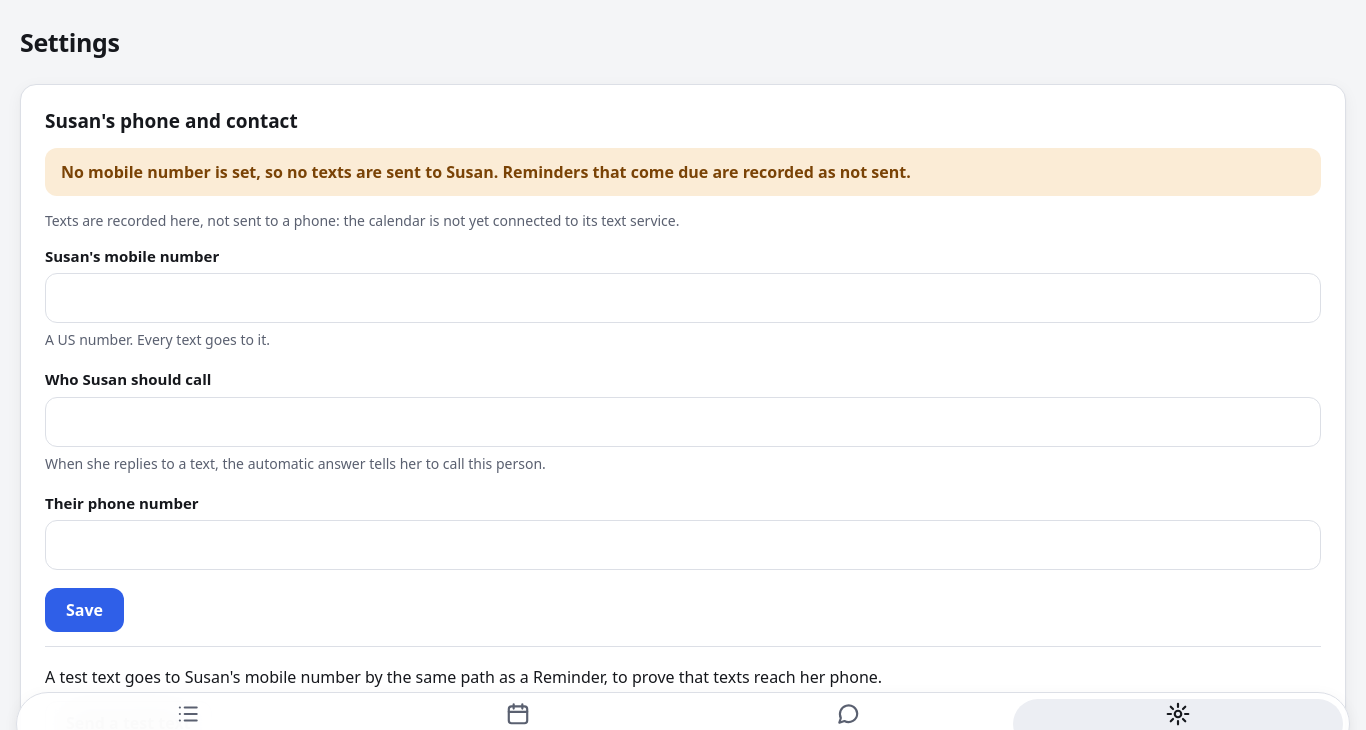
Test: the Susan's phone and contact section of Settings › says what is wrong with a number that is not one, and keeps nothing
In the field labelled "Susan's mobile number": (683, 298) [45,273,1321,323], type "555-0123"
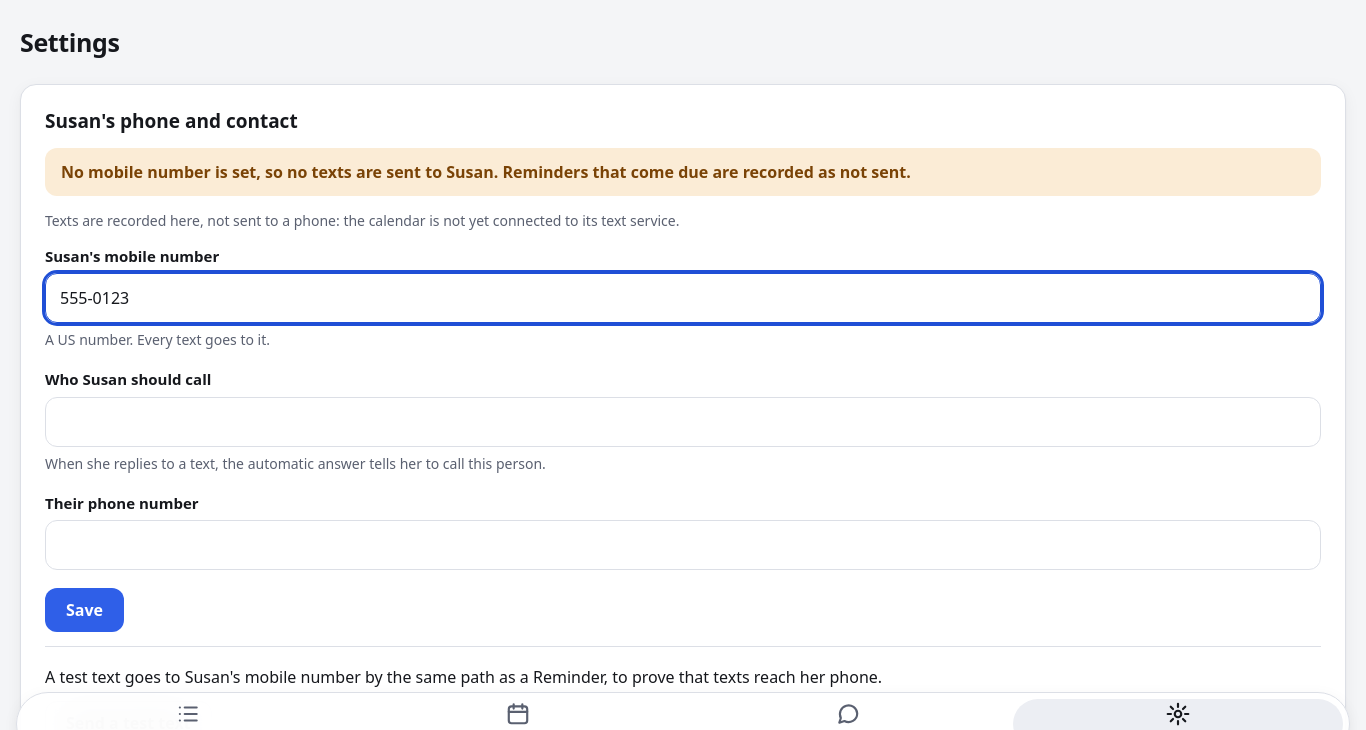
Click the button "Save": (84, 610) [45,588,124,632]
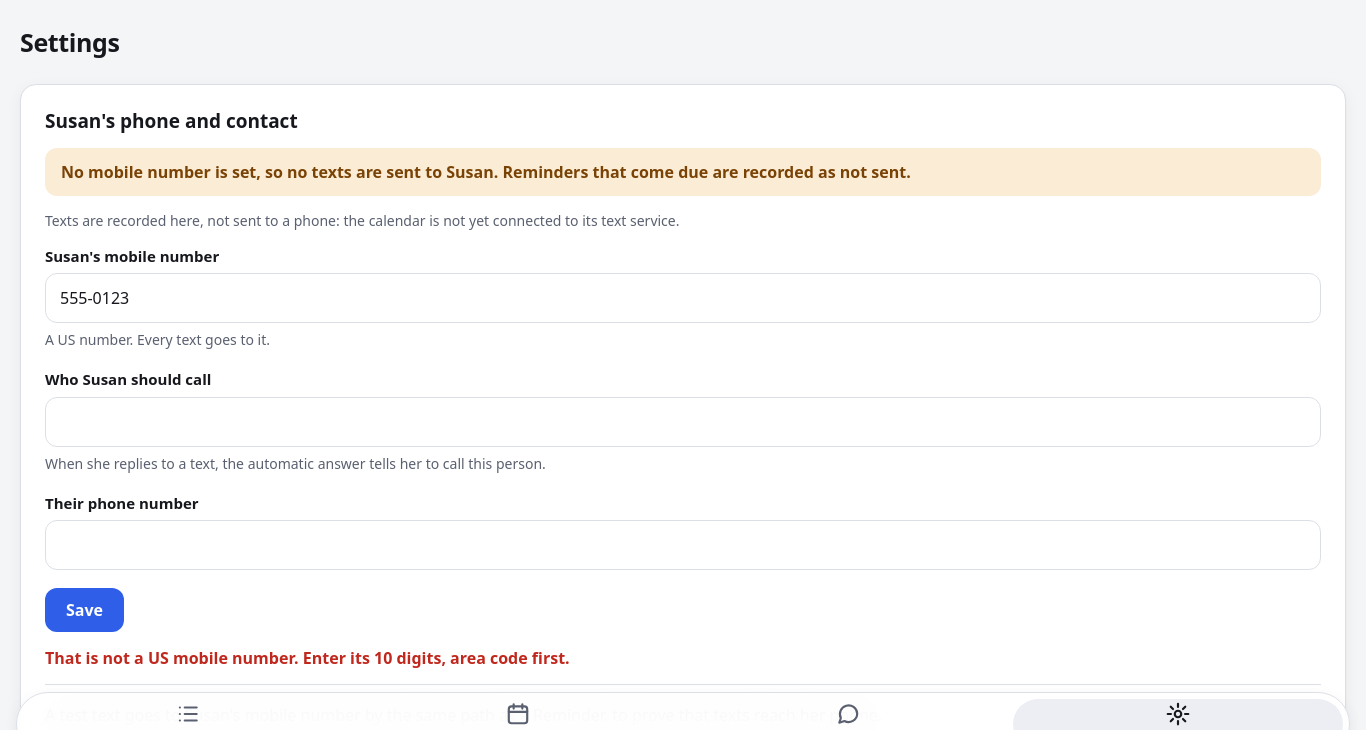
Result: the message shows "That is not a US mobile number." at [45,647,570,669]
